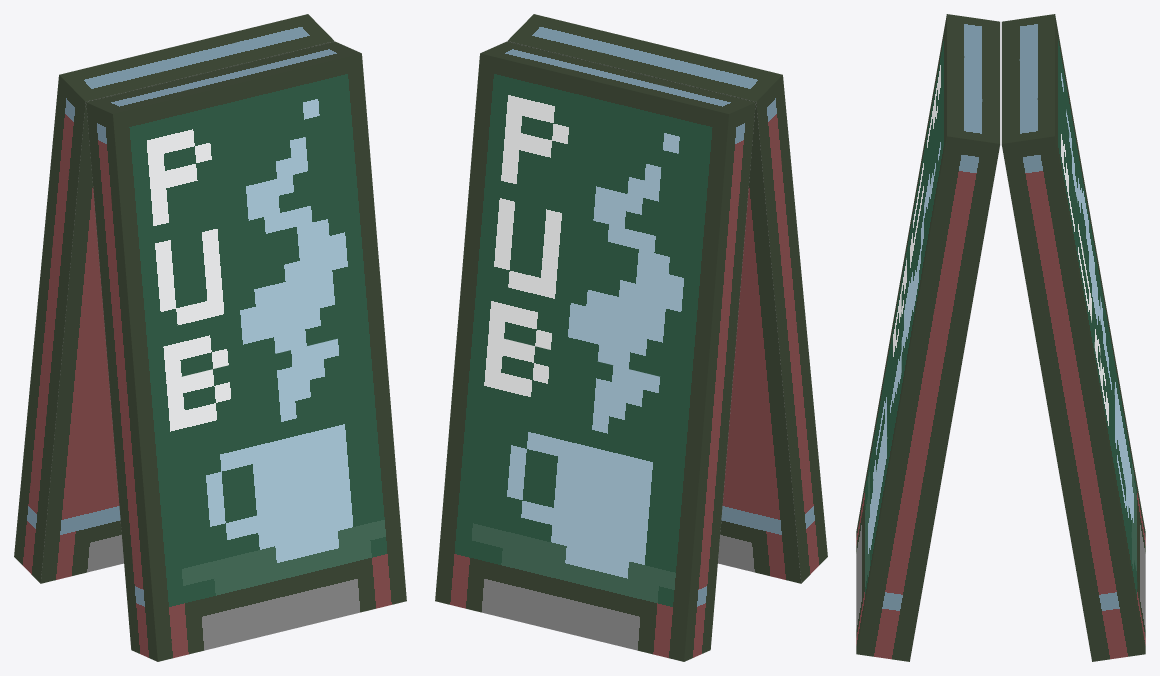
The model's file is sign_pub.glb.
The picture shows the model from 3 angles, left to right: view 1: azimuth 30°, elevation 25°; view 2: azimuth 150°, elevation 25°; view 3: azimuth 270°, elevation 25°; orthographic projection.
Visible parts, largest first — view 1: Cube; view 2: Cube; view 3: Cube.
Boxes of the visible parts, left/top/right/bottom form: Cube: left=14, top=14, right=406, bottom=661; Cube: left=435, top=14, right=827, bottom=661; Cube: left=856, top=14, right=1145, bottom=661.
Size of the model in its own units: 1 by 2 by 1.
Materials: 1 (1 with a texture image).
